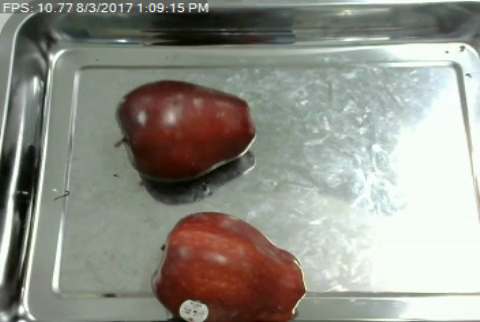Apple: (146, 206, 309, 320), (113, 78, 260, 183)
